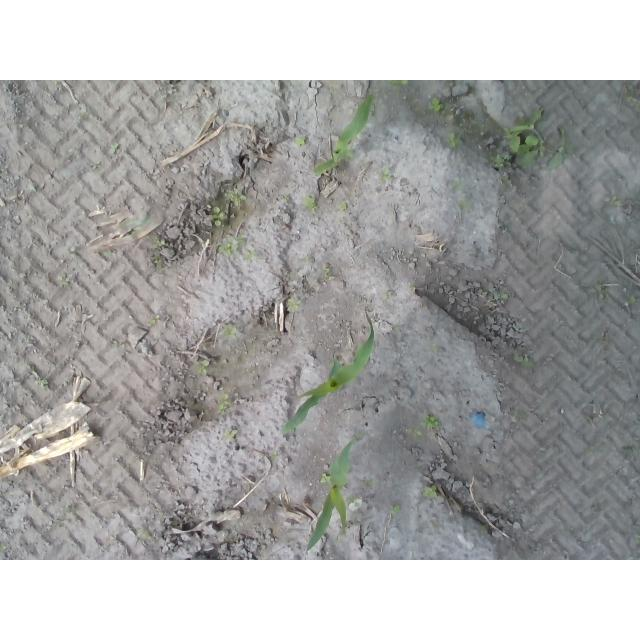Maize: (279, 309, 377, 436), (306, 438, 354, 553), (314, 93, 374, 178)
Weeds: (502, 107, 575, 173), (146, 236, 170, 272), (218, 239, 254, 262), (222, 189, 246, 207), (208, 207, 228, 226), (513, 354, 536, 369), (595, 280, 609, 302), (376, 167, 393, 183), (444, 134, 461, 150), (223, 323, 240, 338), (422, 416, 441, 429), (196, 360, 210, 377), (304, 195, 319, 210), (216, 400, 231, 415), (33, 375, 49, 389), (491, 154, 506, 168), (607, 194, 624, 206), (495, 289, 509, 303), (406, 426, 422, 438), (423, 484, 439, 496), (223, 428, 238, 440), (429, 100, 444, 112), (287, 298, 302, 310), (322, 262, 332, 280), (388, 502, 401, 514), (292, 133, 305, 145), (388, 81, 408, 88), (319, 472, 330, 484), (339, 200, 350, 212), (152, 315, 160, 323)
